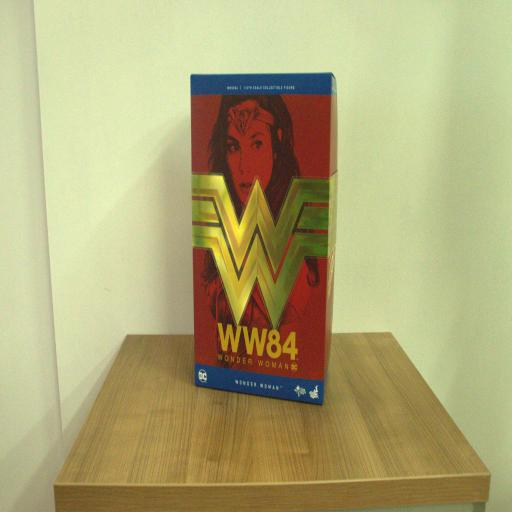WonderWoman: (189, 66, 343, 409)
